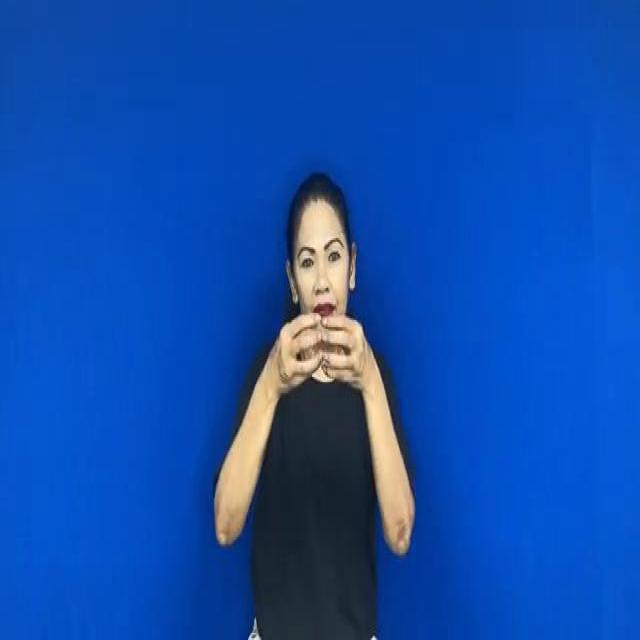egg: (267, 300, 376, 394)
